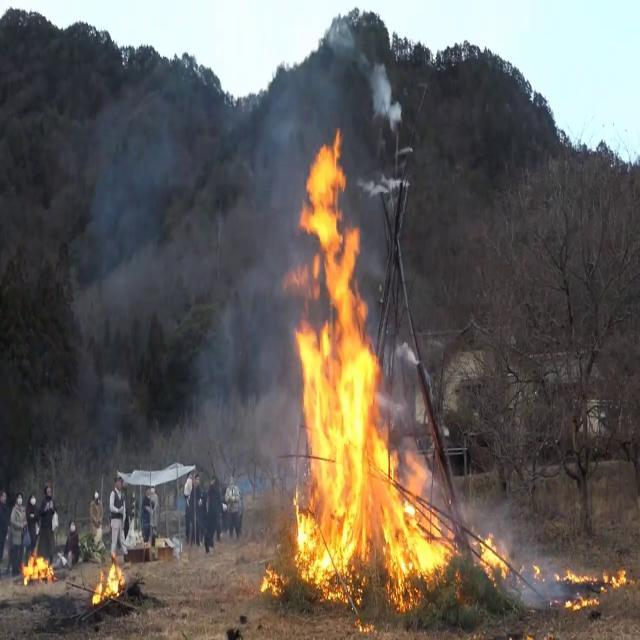Fire: (270, 120, 460, 619), (476, 522, 516, 588), (552, 562, 638, 592), (90, 556, 128, 606), (20, 546, 56, 584)
Smoke: (360, 50, 408, 138)
